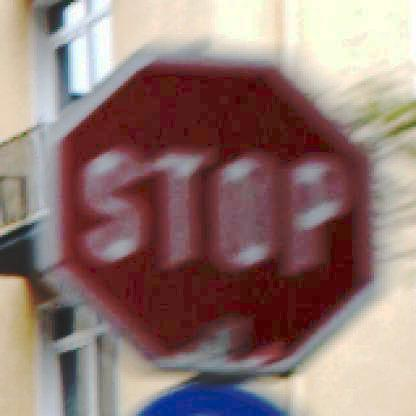Stop Sign: (34, 36, 374, 374)
